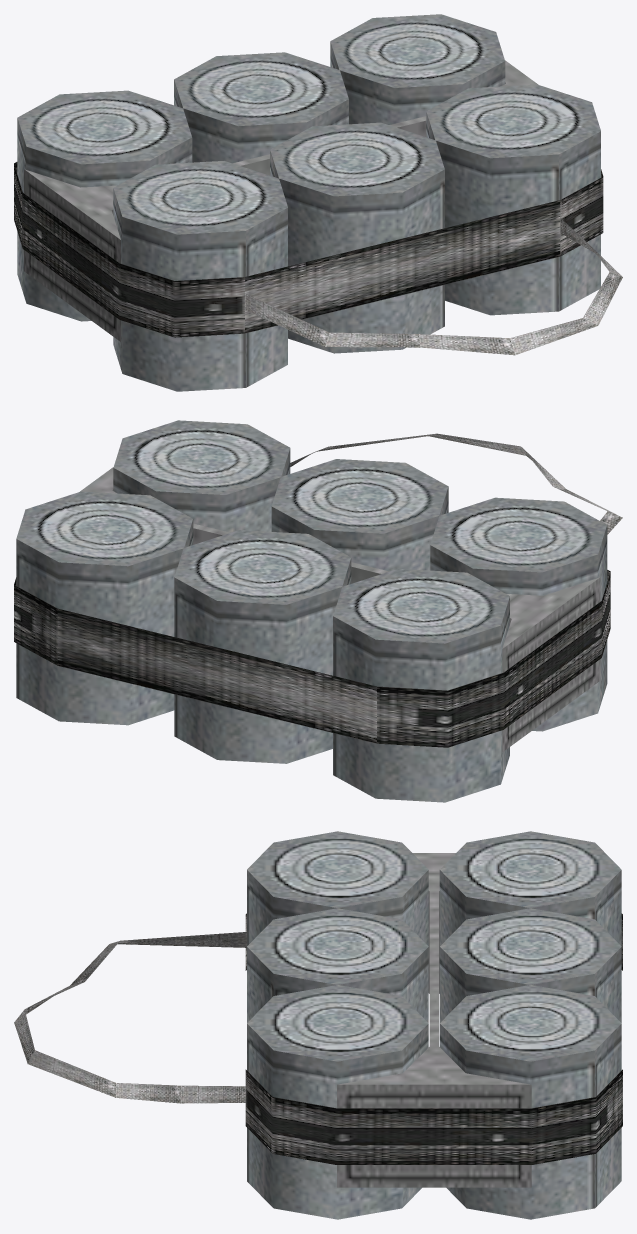
Rendered from edb_con_ration_kit_lg_l0.fbx.
3 views of the same model, one above another, from view 1: azimuth 30°, elevation 25°; view 2: azimuth 150°, elevation 25°; view 3: azimuth 270°, elevation 25° (orthographic).
Parts seen in each view (by area): view 1: mesh_node; view 2: mesh_node; view 3: mesh_node.
Part boxes in pixels (x1,y1,x2,y2): mesh_node: (14, 14, 622, 391); mesh_node: (14, 420, 622, 802); mesh_node: (14, 831, 622, 1219).
Size of the model in its own units: 0.3339 by 0.1056 by 0.3688.
Materials: 1 (1 with a texture image).
